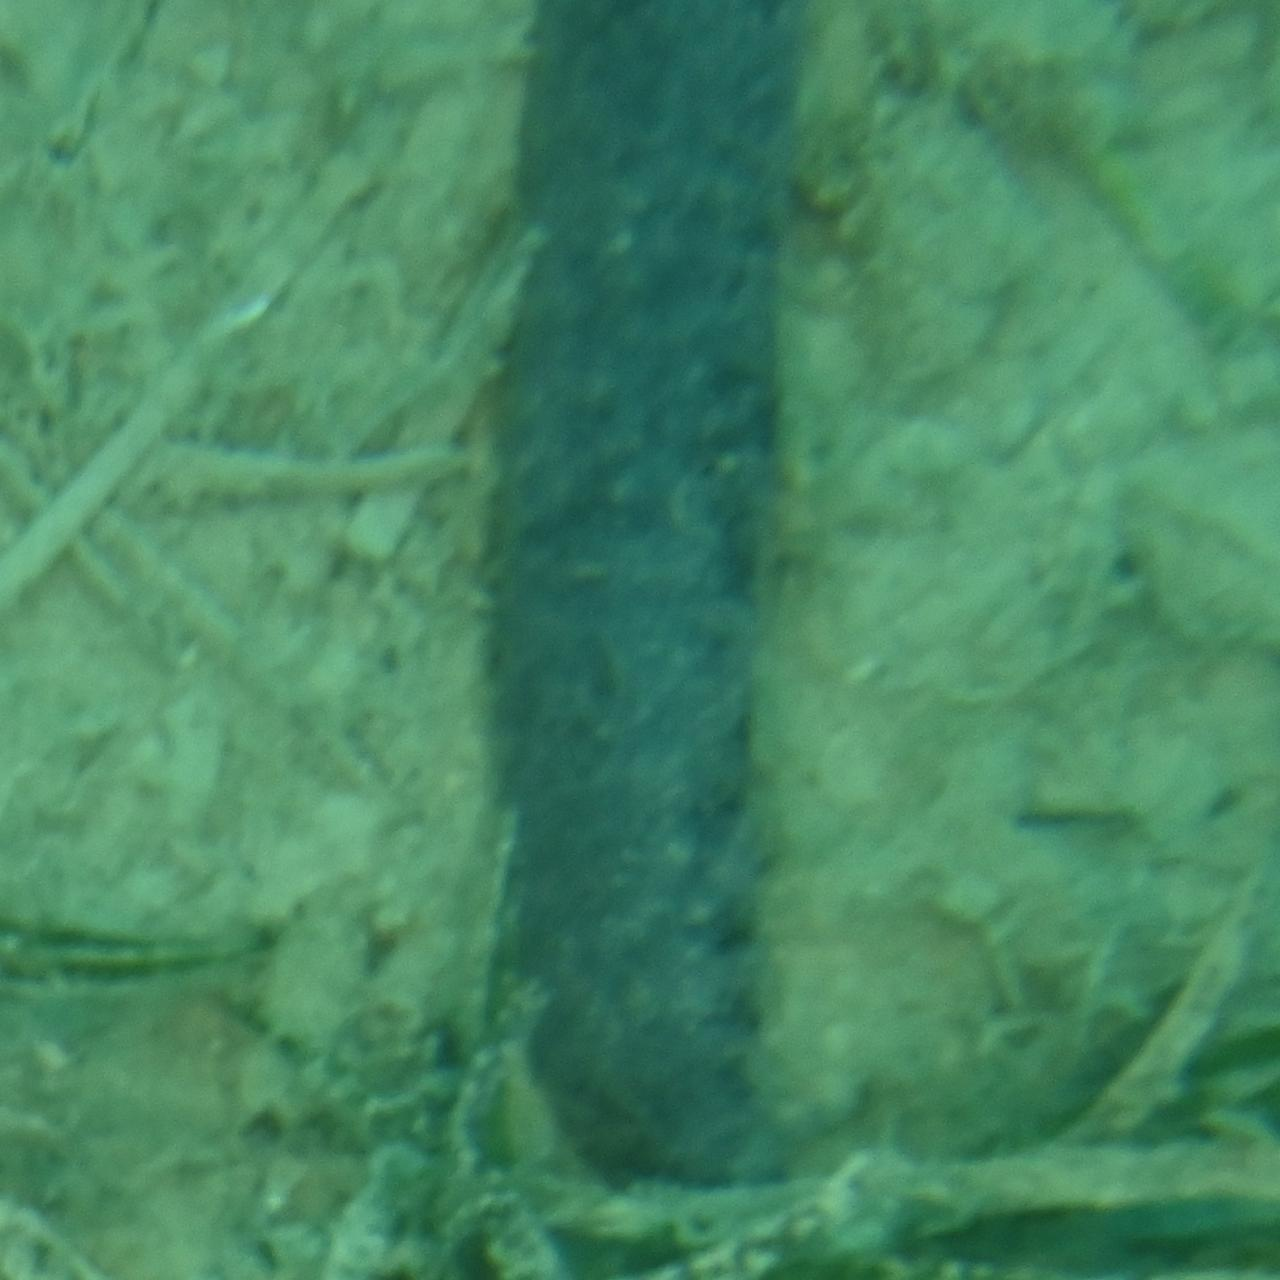Holothuria tubulosa: (470, 0, 810, 1194)
